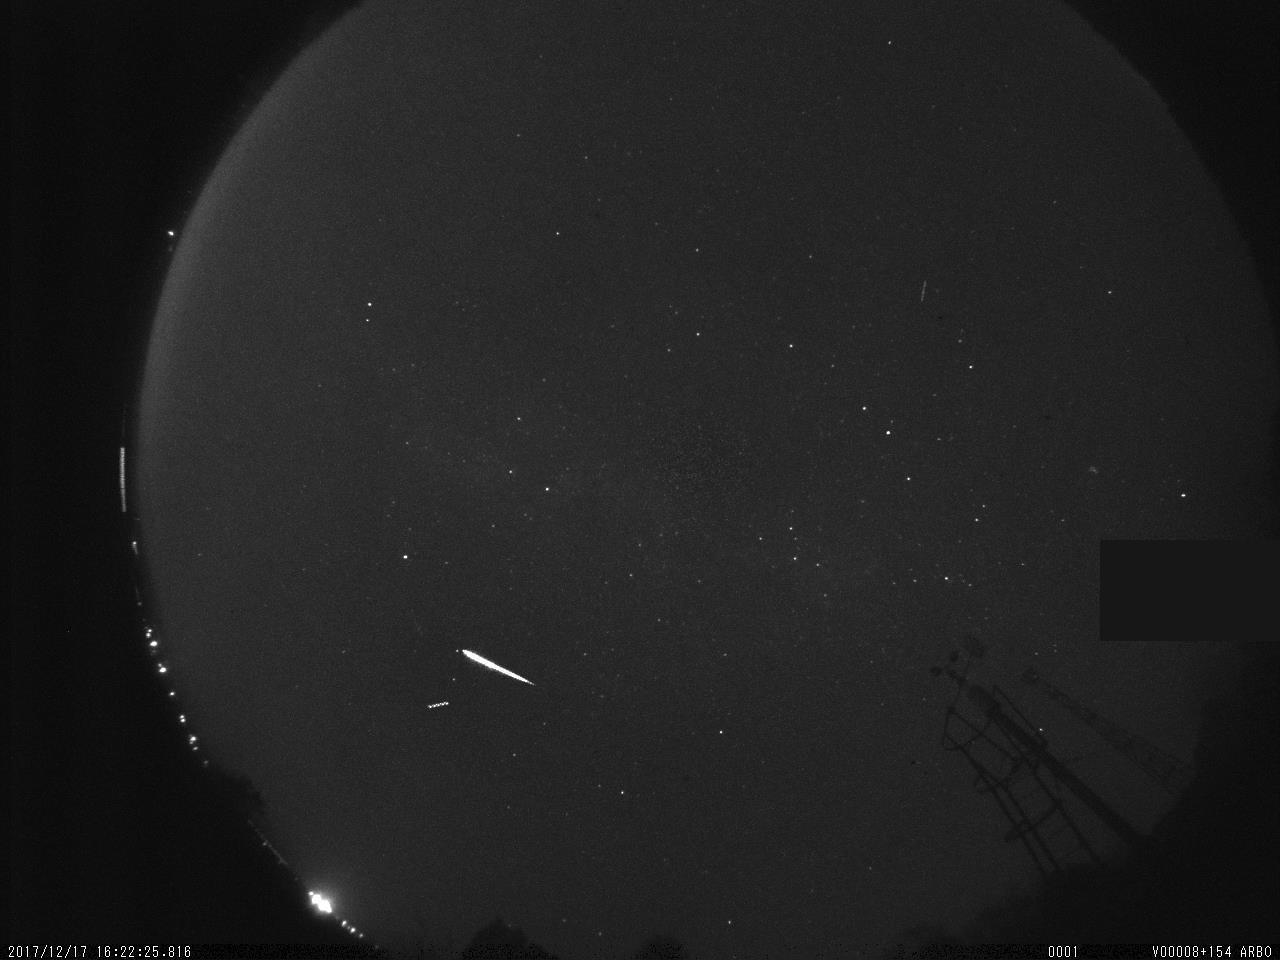meteor: (454, 641, 542, 694)
satelite: (423, 695, 451, 719)
